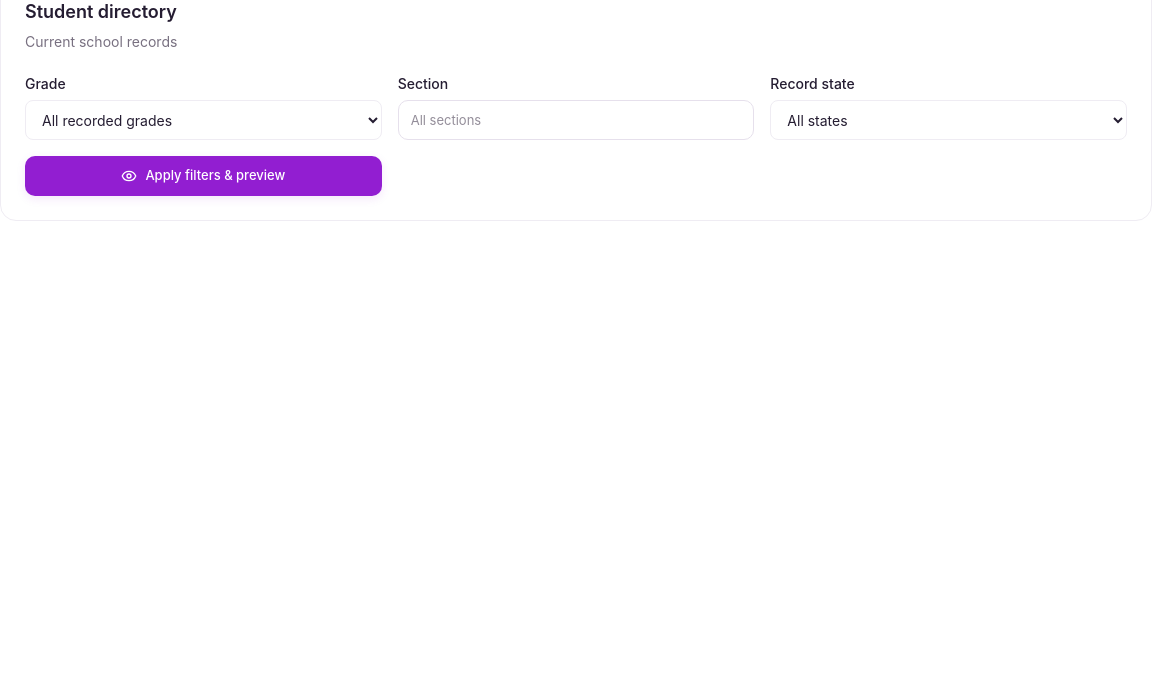
Test: oversized result previews require narrower filters before saving
The width and height of the screenshot is (1152, 693).
Click the button "Apply filters & preview" at x=203, y=176, box 25,156 -> 382,196
(page scrolled)
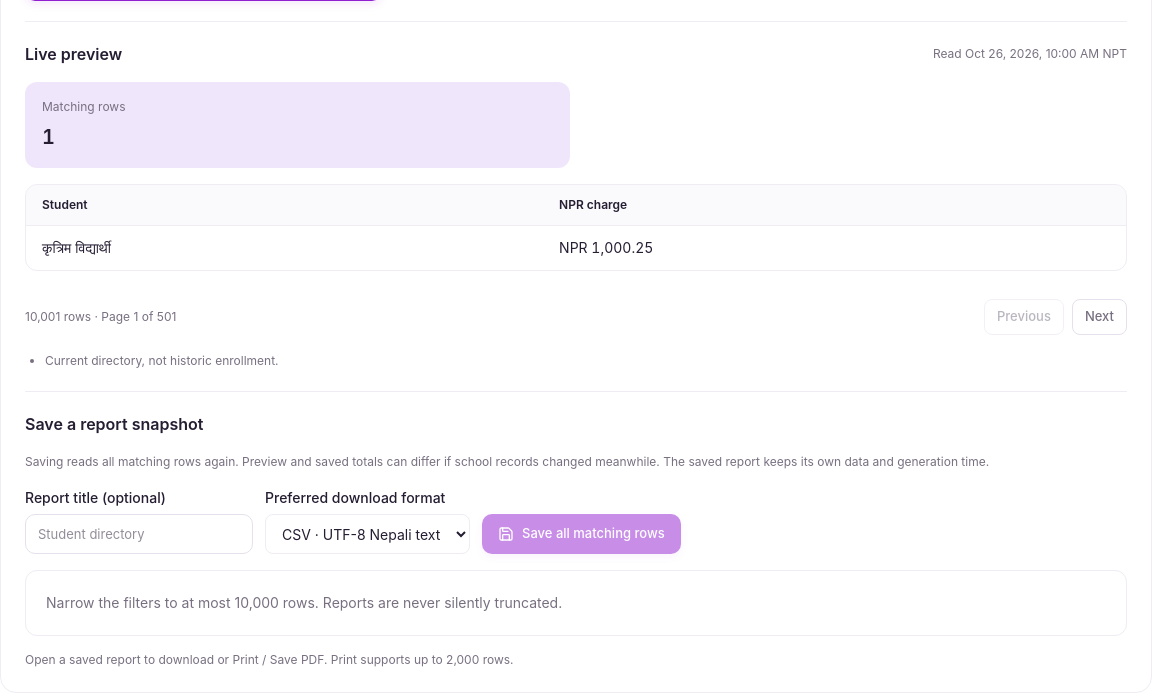
Expected: the text "Reports are never silently truncated" is shown, 279,594 -> 562,611
